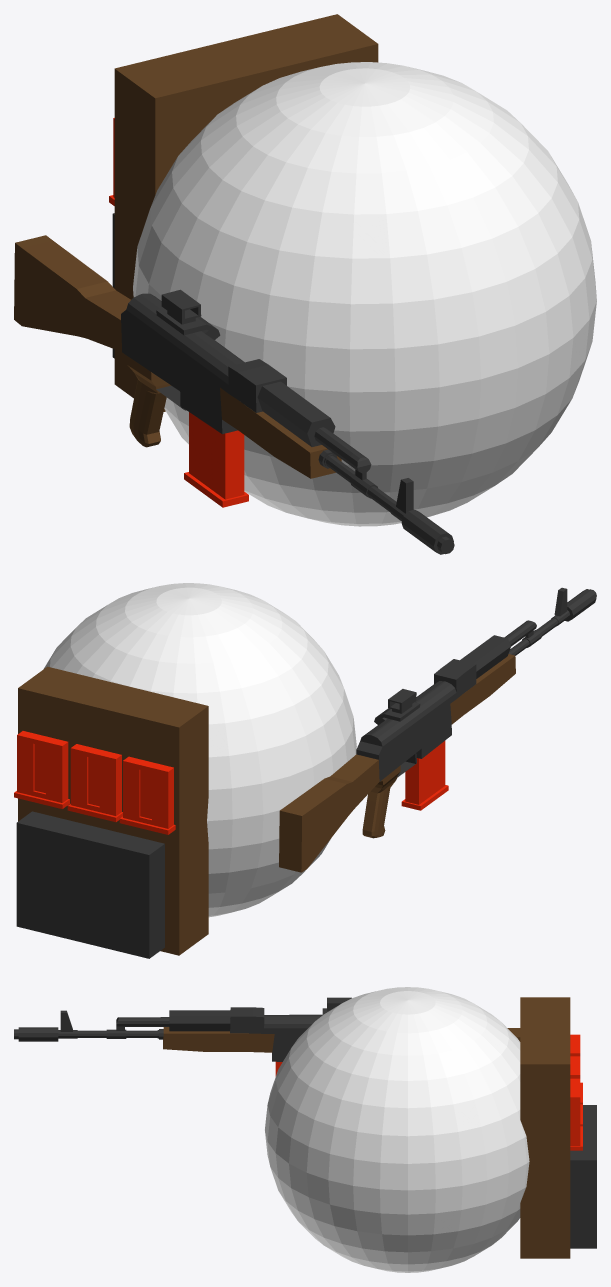
The model's file is Soldier.fbx.
3 views of the same model, one above another, from view 1: azimuth 30°, elevation 25°; view 2: azimuth 150°, elevation 25°; view 3: azimuth 270°, elevation 25° (orthographic). The views are drawn at different scales.
Visible parts, largest first — view 1: Sphere, Cube, Cube.018; view 2: Cube.018, Sphere, Cube; view 3: Sphere, Cube.018, Cube.
Part boxes in pixels (x1=…): Sphere: x1=133, y1=62, x2=596, y2=526; Cube: x1=14, y1=235, x2=454, y2=554; Cube.018: x1=109, y1=14, x2=378, y2=411; Cube.018: x1=14, y1=666, x2=208, y2=958; Sphere: x1=43, y1=583, x2=356, y2=917; Cube: x1=279, y1=587, x2=596, y2=872; Sphere: x1=265, y1=987, x2=529, y2=1272; Cube.018: x1=520, y1=997, x2=596, y2=1258; Cube: x1=14, y1=997, x2=520, y2=1076.
Bounding box in the file's own units: 2.26 × 2 × 4.07.
